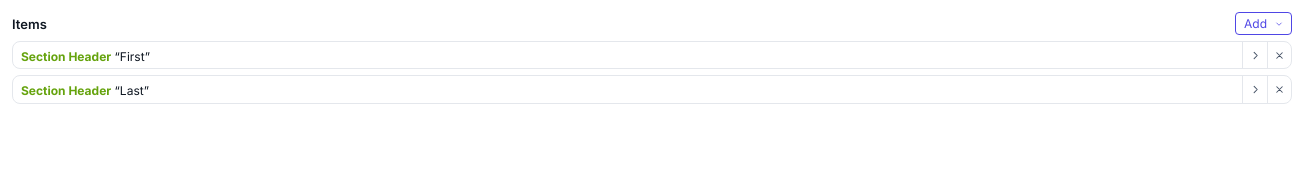
it: MenuItemsInput — list shell › keeps one item expanded at a time
Click the button titled "Expand" in the row of "First": (1255, 55) 1243,42 -> 1267,68
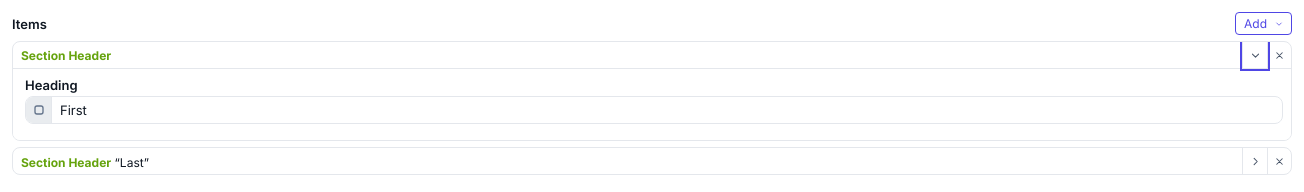
Expected: the button titled "Collapse" is shown, 1243,42 -> 1267,68
Click the button titled "Expand": (1255, 161) 1243,148 -> 1267,174
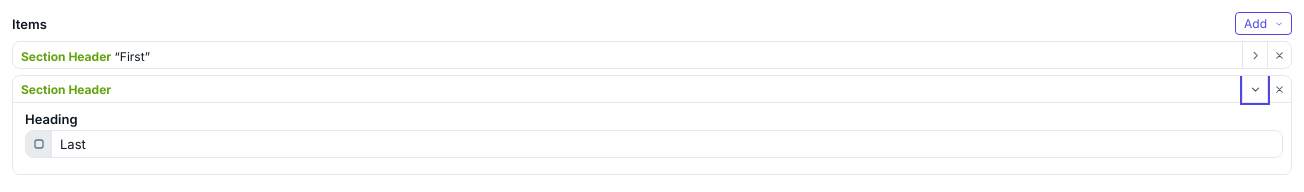
Expected: the button titled "Expand" is shown, 1243,42 -> 1267,68
Expected: the button titled "Collapse" is shown, 1243,76 -> 1267,102
